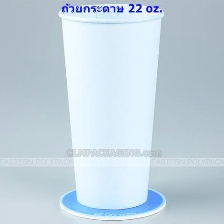paper_cup: (53, 1, 167, 212)
